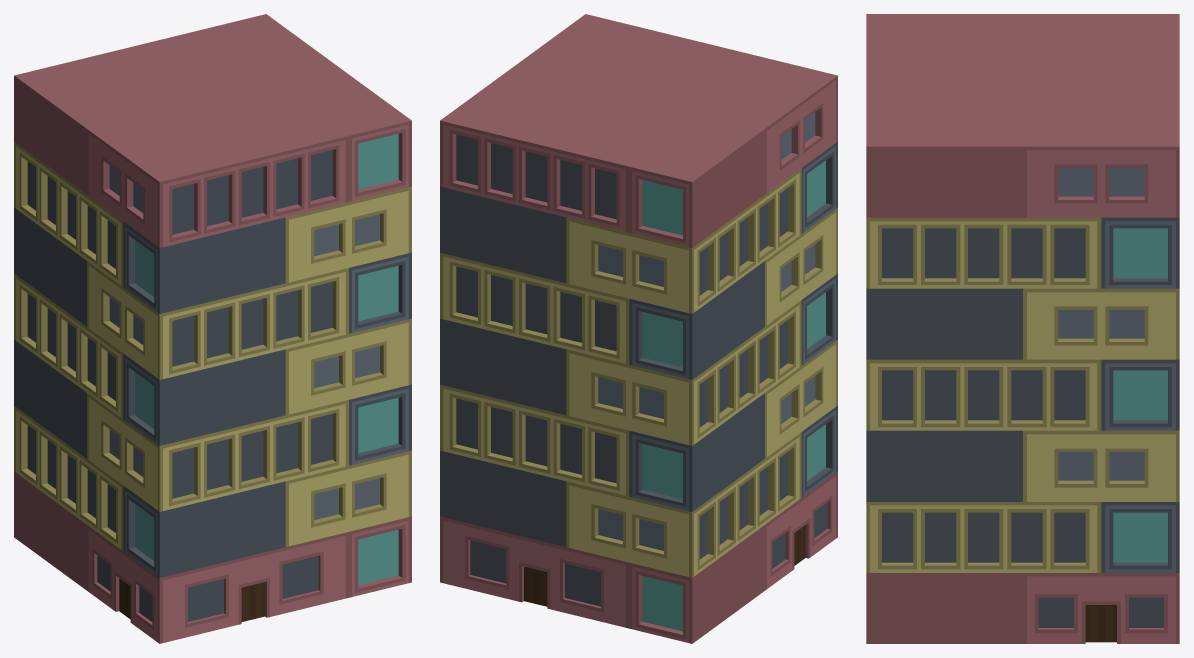
File: Buildings_01-11.obj
The picture shows the model from 3 angles, left to right: view 1: azimuth 30°, elevation 25°; view 2: azimuth 150°, elevation 25°; view 3: azimuth 270°, elevation 25°; orthographic projection. The views are drawn at different scales.
Size of the model in its own units: 8 by 14 by 8.
Materials: 1 (1 with a texture image).
